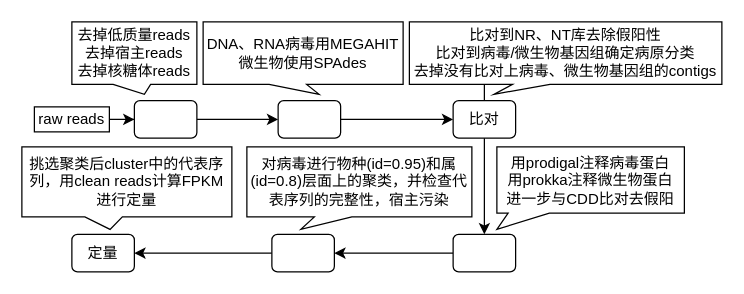
This 744x294 diagram has some shape labels left out. The centre of each missing label's shape, as x and y in pixels:
denovo组装: [309,118]
注释: [484,252]
聚类: [302,252]
过滤: [165,118]
